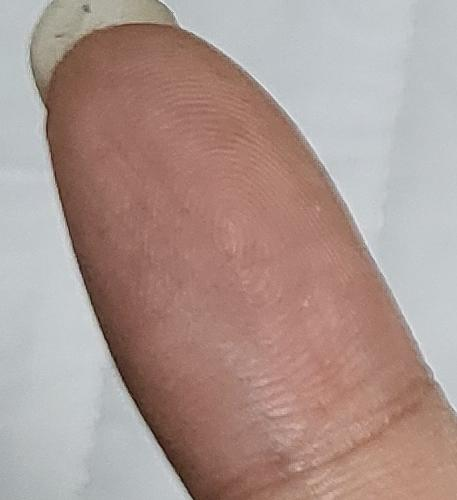Fingerprints: (46, 22, 430, 500)
